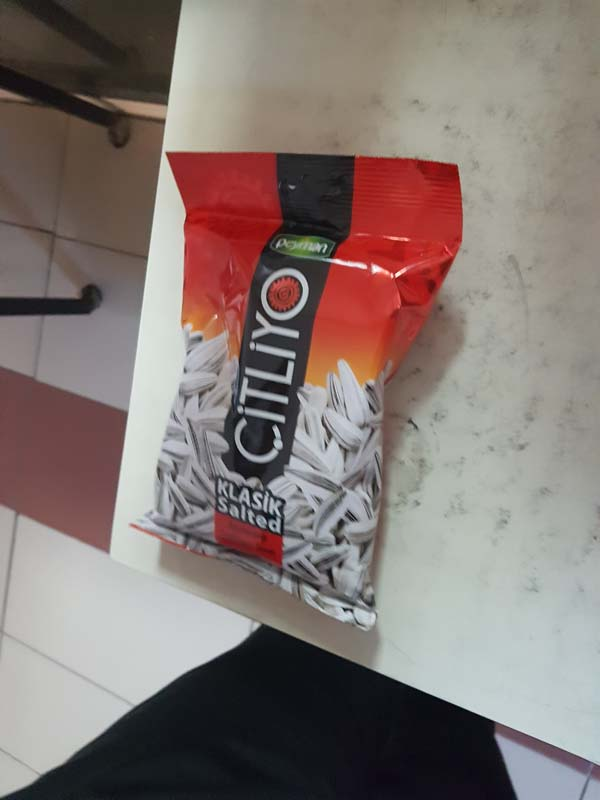citliyorklasik: (121, 148, 480, 642)
